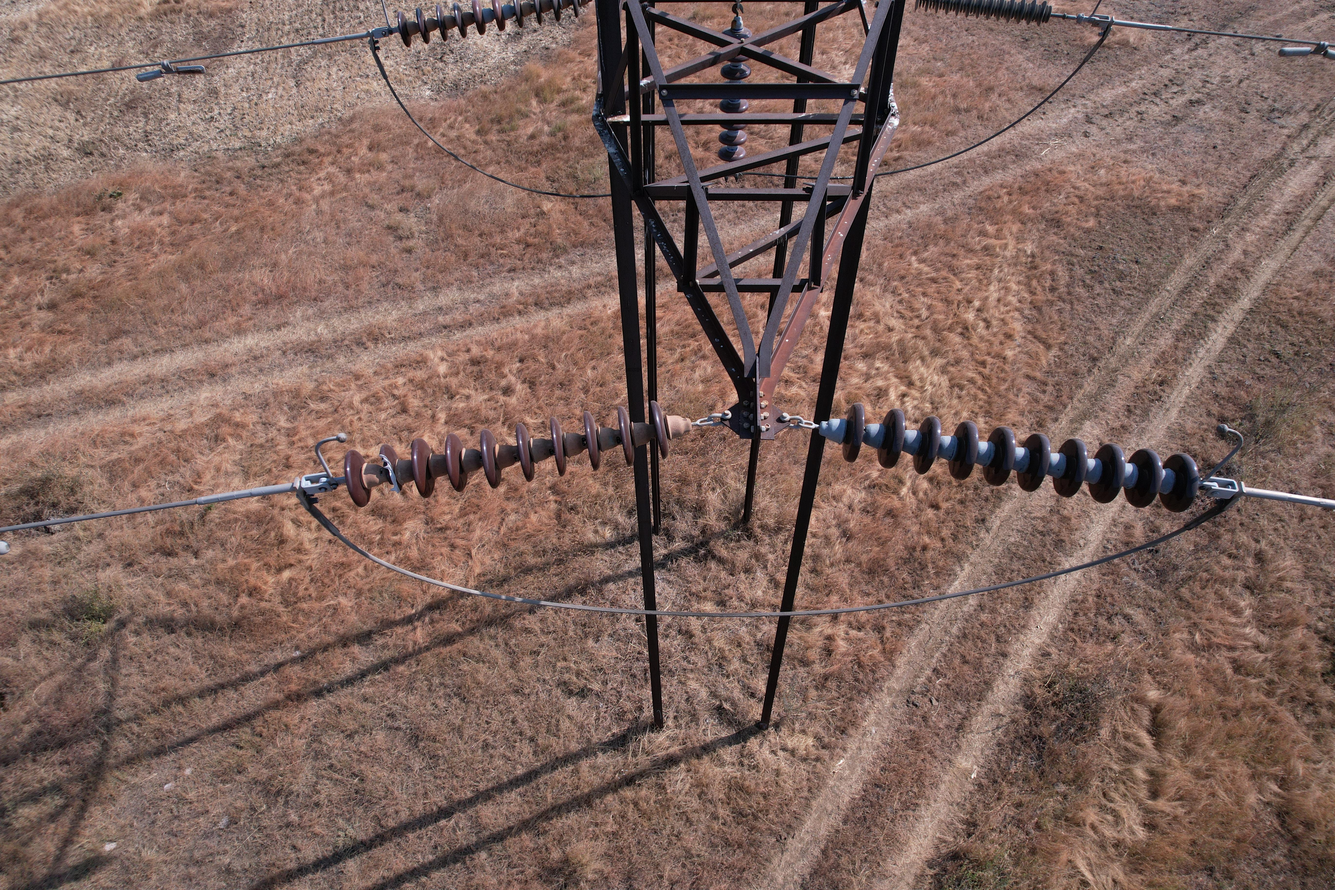broken_insulator: (378, 443, 404, 496)
